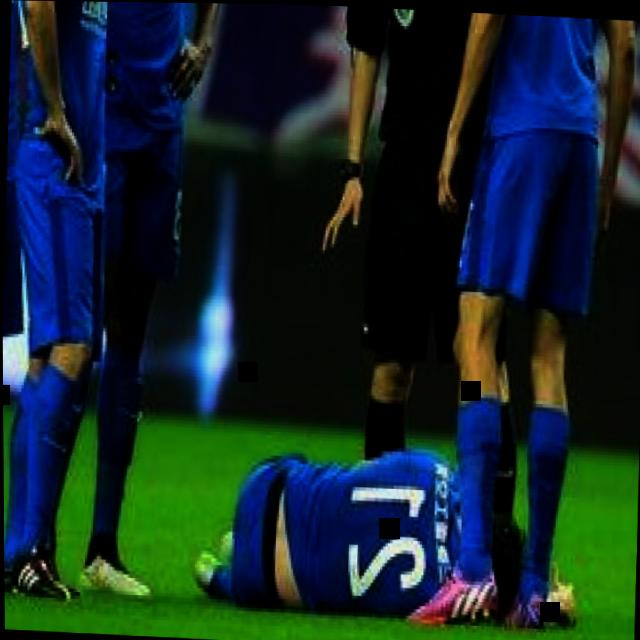Fall-Detected: (193, 407, 563, 617)
